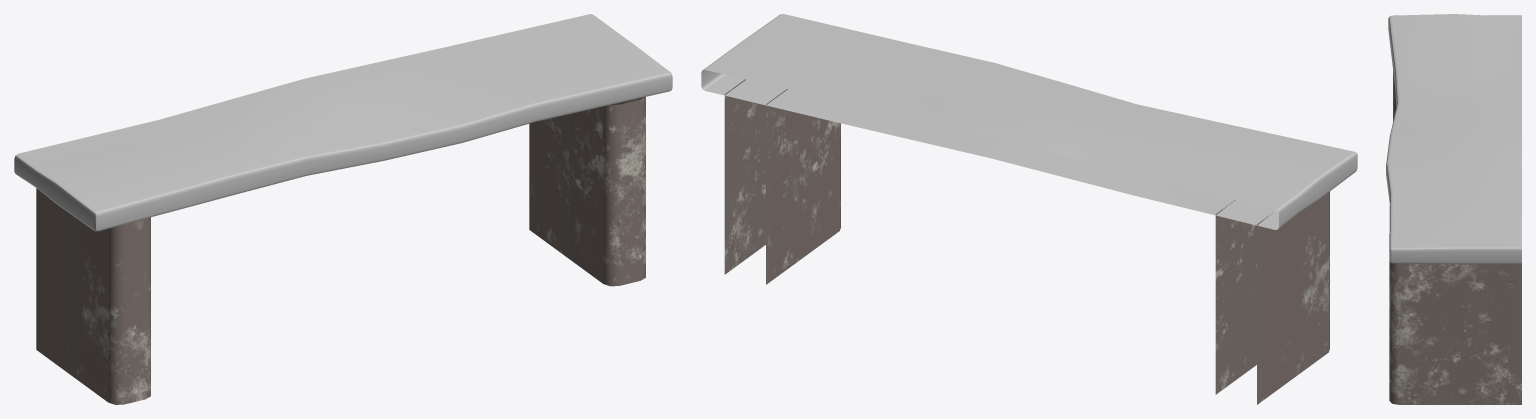
File: Bench.fbx
3 views of the same model, side by side, from view 1: azimuth 30°, elevation 25°; view 2: azimuth 150°, elevation 25°; view 3: azimuth 270°, elevation 25° (orthographic). The views are drawn at different scales.
Visible parts, largest first — view 1: Bench; view 2: Bench; view 3: Bench.
Boxes of the visible parts, x1,y1,x2,y2 form: Bench: (14,14,672,404); Bench: (701,14,1357,404); Bench: (1386,14,1521,404).
Size of the model in its own units: 177 by 60.14 by 43.46.
